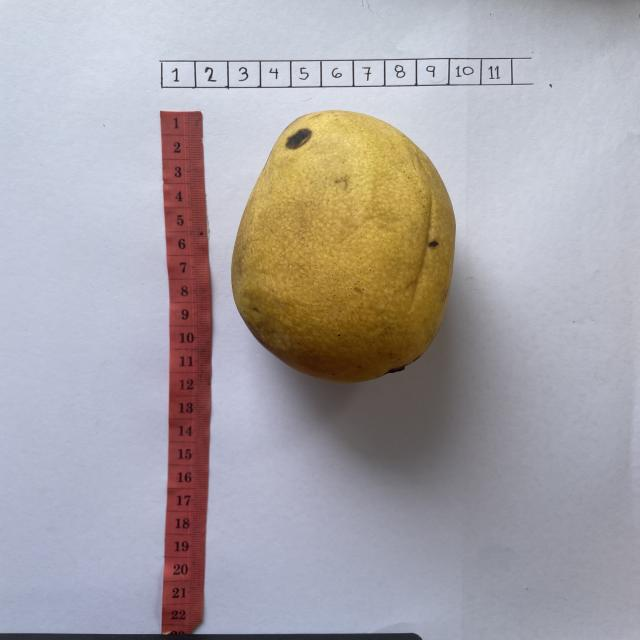Ripe: (230, 110, 456, 386)
